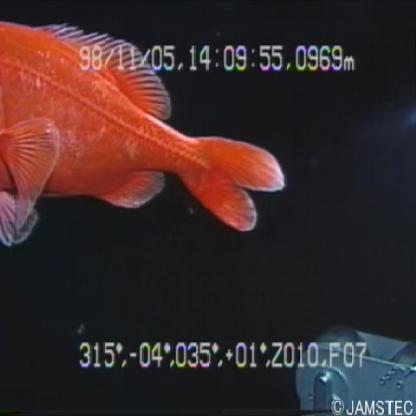Bio: (1, 17, 288, 251)
Rov: (290, 320, 415, 416)
